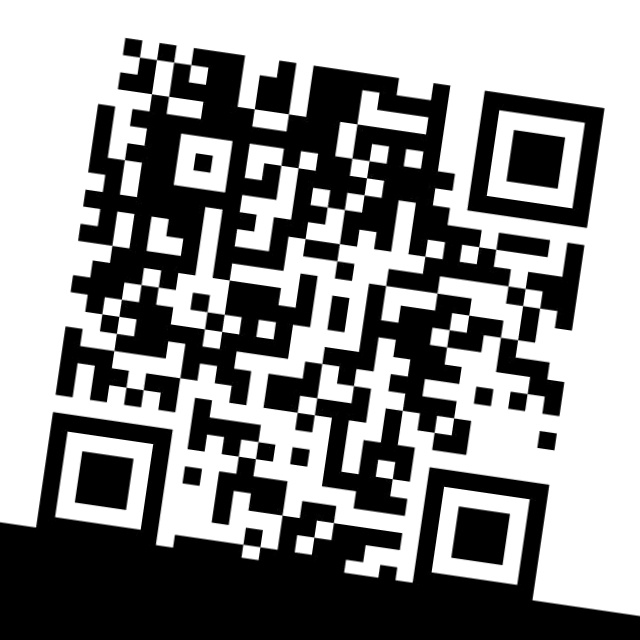qr-code: (0, 8, 631, 640)
